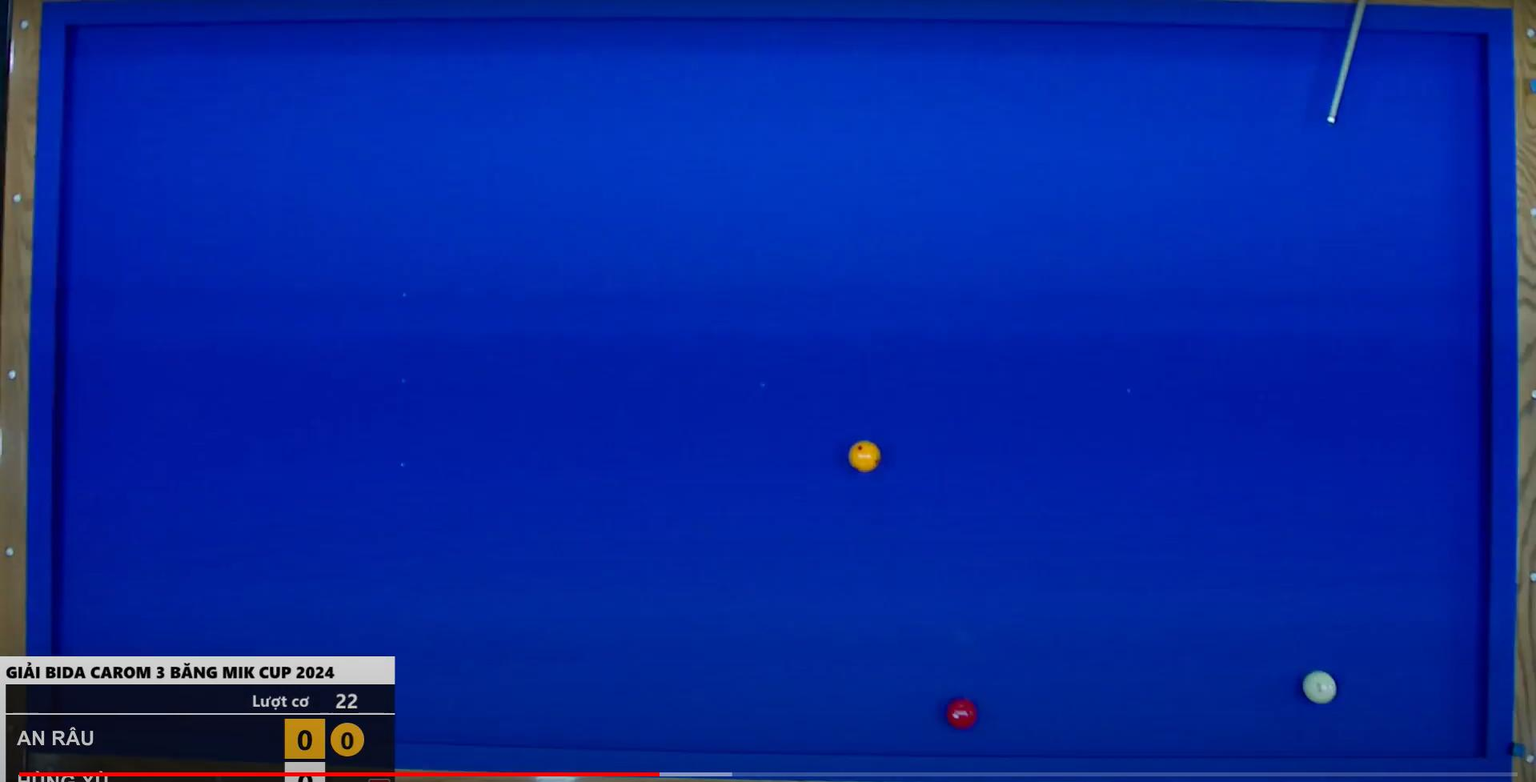red ball: (931, 688, 988, 742)
white ball: (1293, 661, 1348, 710)
yellow ball: (840, 431, 887, 482)
